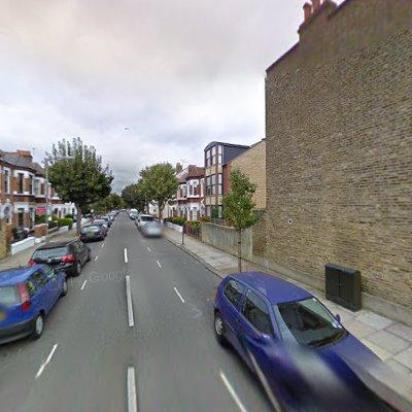stationary-car-onstreet: (212, 270, 408, 412), (0, 262, 66, 346), (27, 239, 93, 277), (79, 224, 107, 242), (141, 222, 161, 238), (94, 218, 108, 232), (100, 216, 112, 228), (106, 213, 114, 221), (132, 212, 138, 220)
stationary-light-truck-onstreet: (137, 215, 157, 231), (130, 209, 136, 219)
